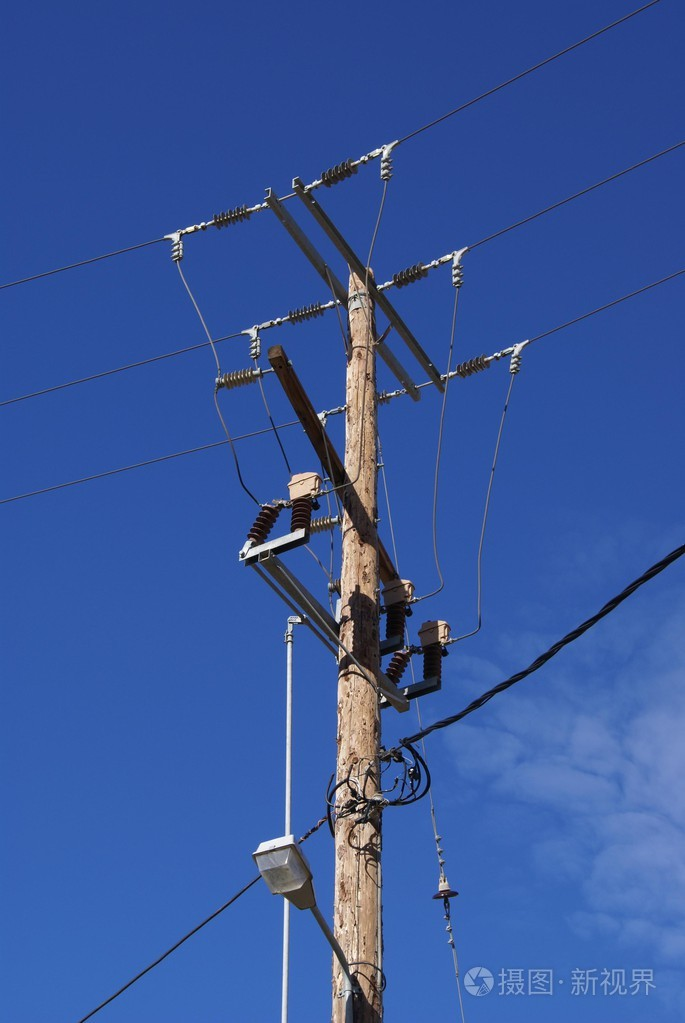insulator: (317, 156, 362, 188), (210, 201, 254, 233), (219, 368, 261, 394), (287, 300, 325, 326), (452, 354, 492, 378), (388, 267, 425, 289), (308, 516, 332, 537)
